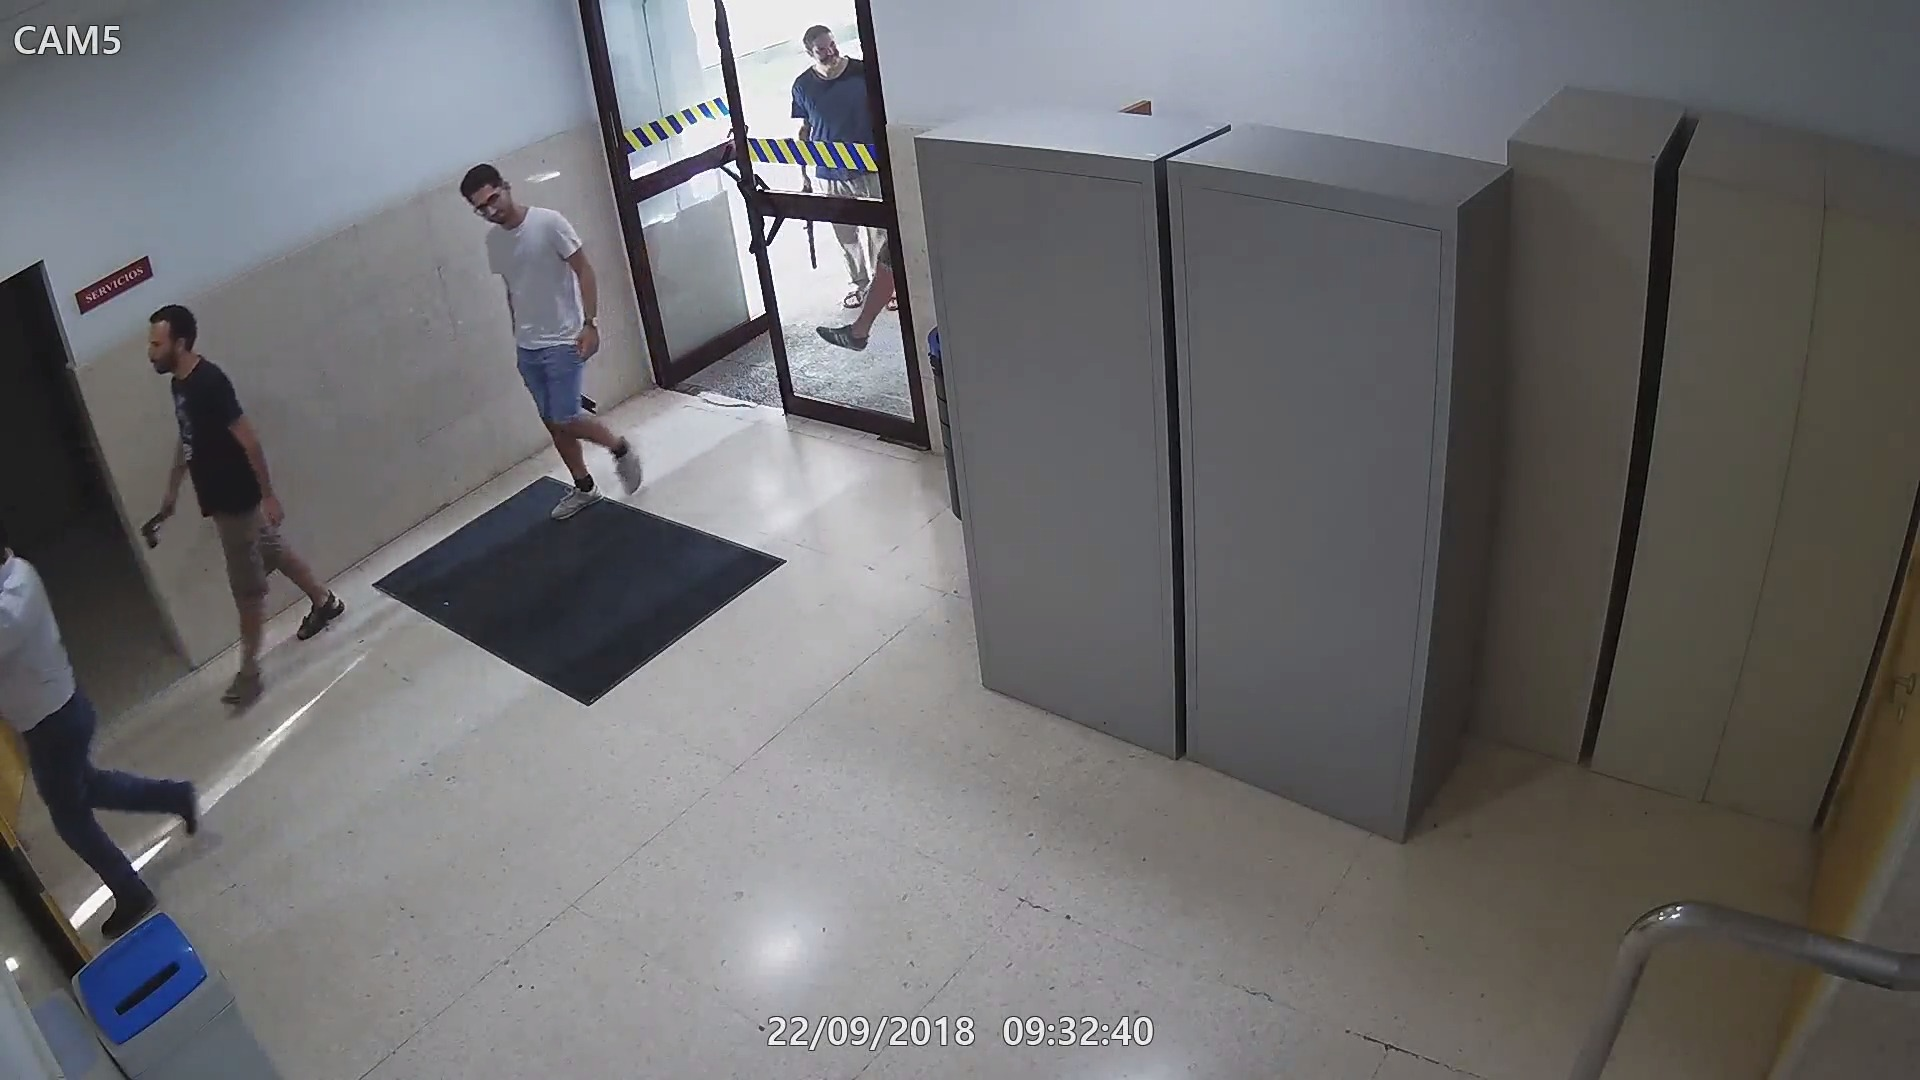pistol: (140, 498, 179, 551)
rifle: (793, 173, 823, 272)
